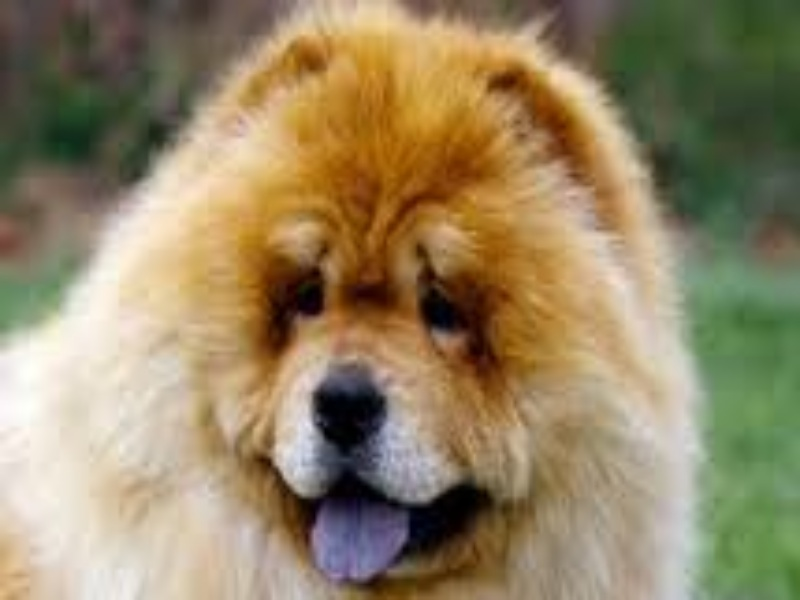dog: (110, 17, 689, 600)
